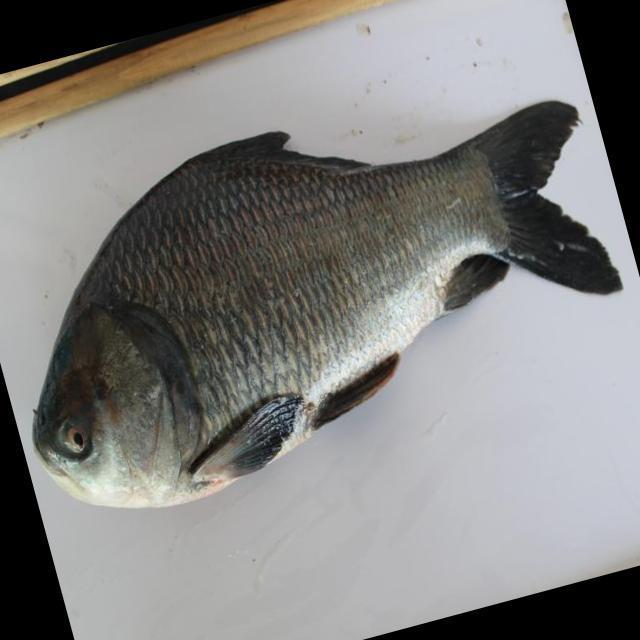Indian Carp: (15, 105, 634, 544)
